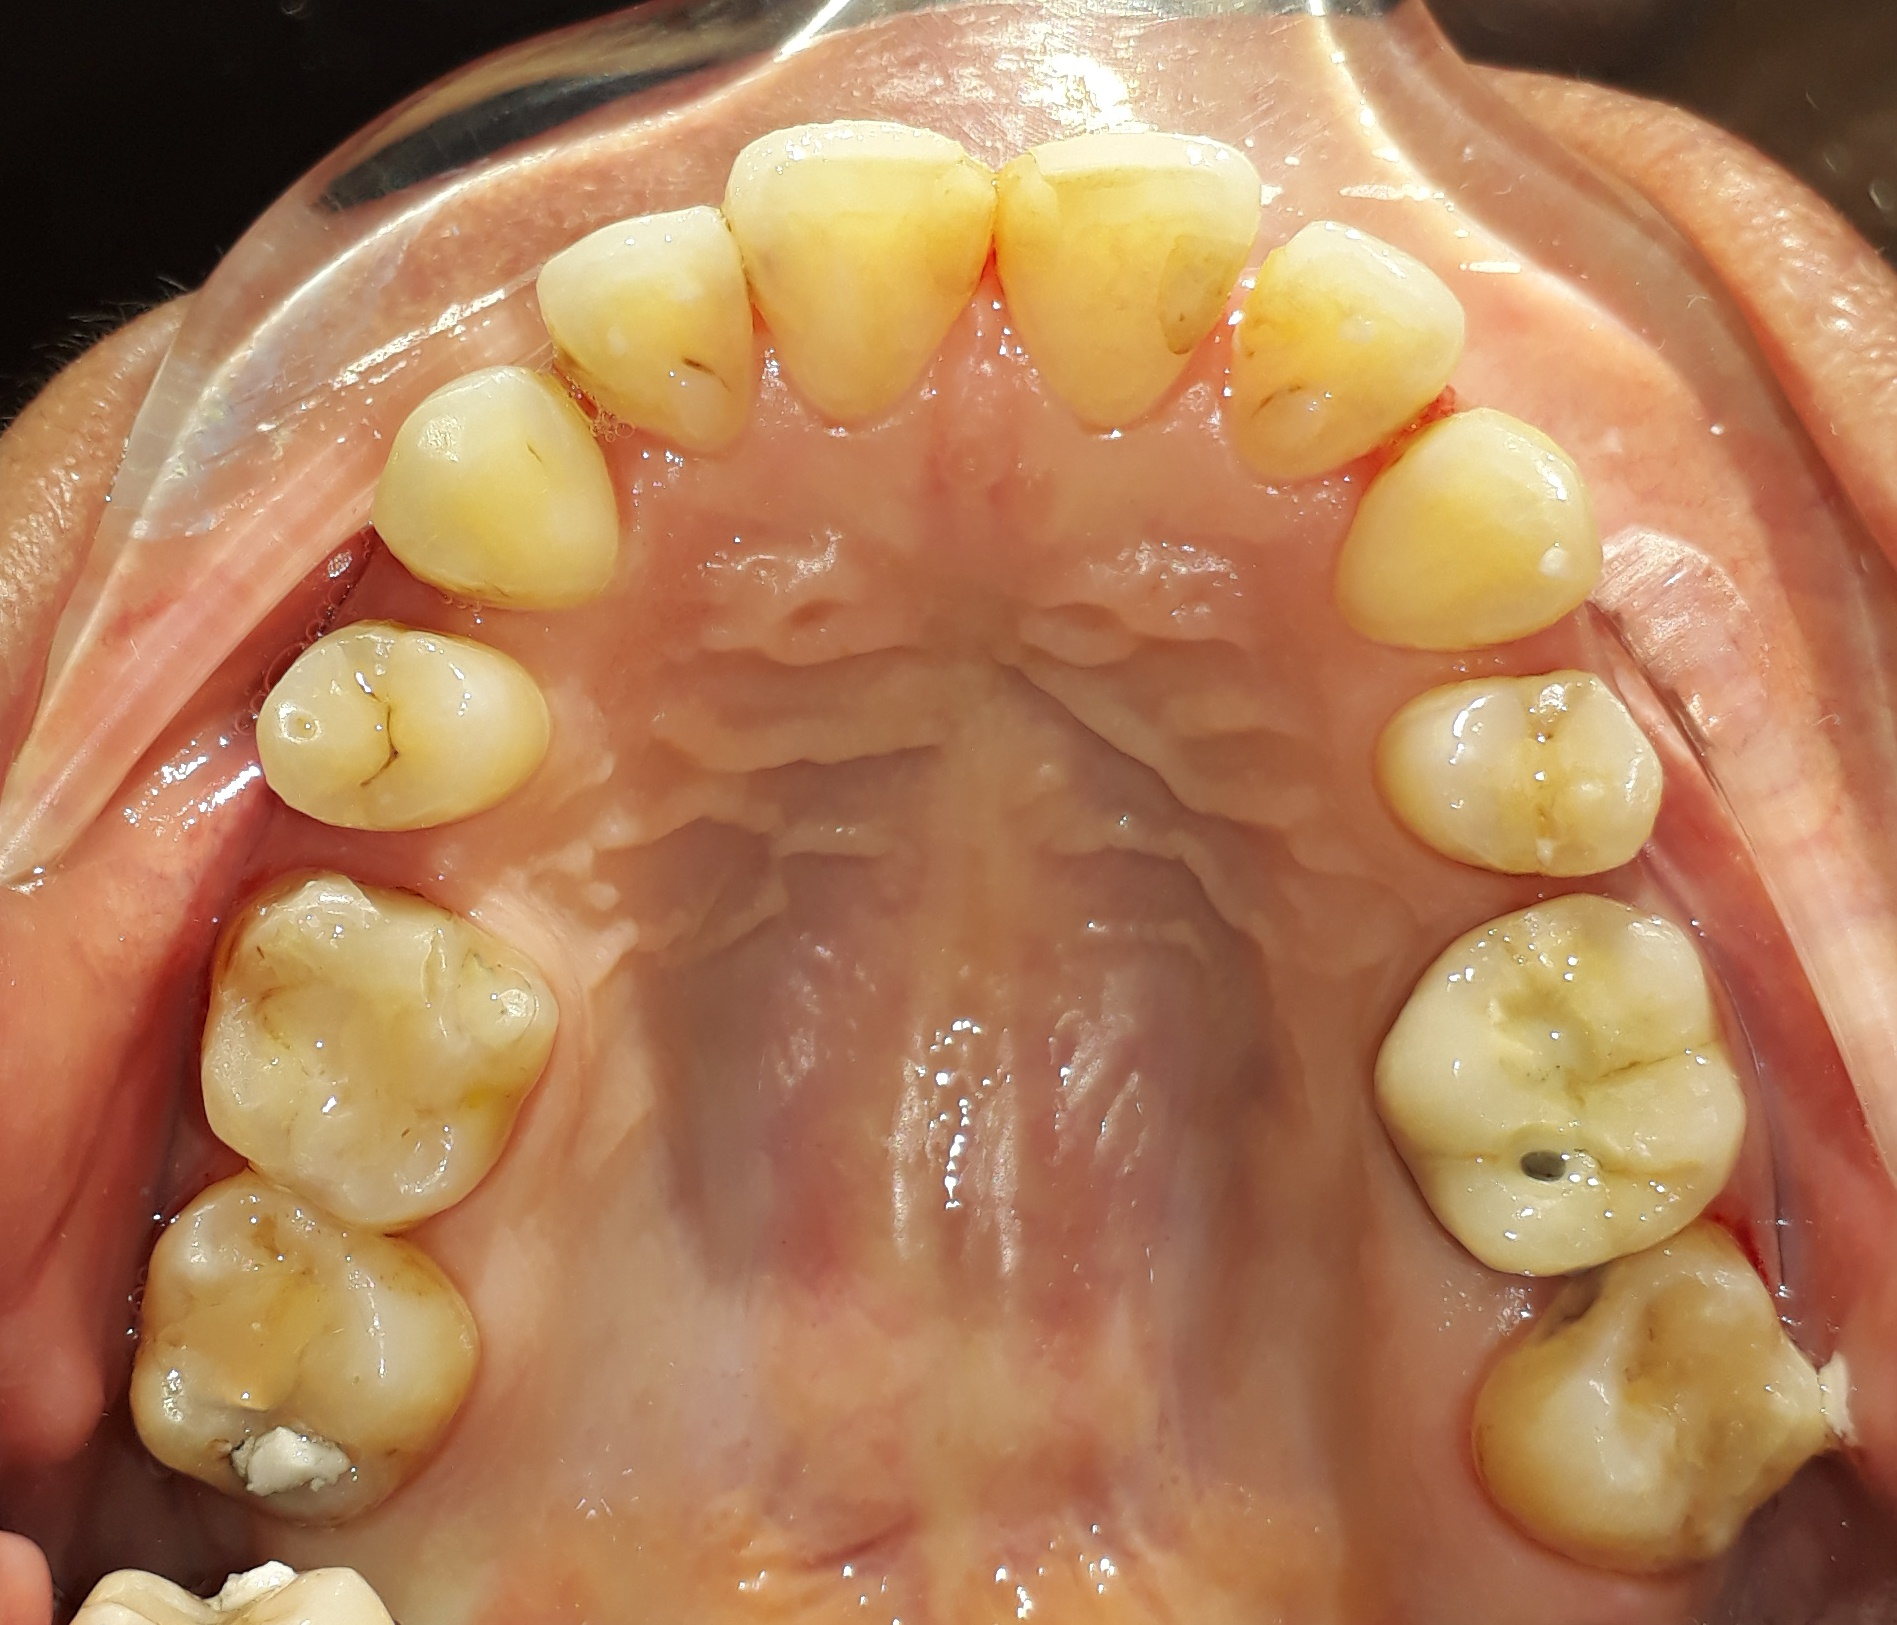1st Molar: (1463, 1232, 1849, 1578), (129, 1185, 487, 1523)
1st Premolar: (251, 613, 558, 840), (1381, 671, 1662, 883)
2nd Premolar: (1372, 887, 1749, 1275), (198, 866, 559, 1232)
Canine: (372, 355, 632, 609), (1336, 414, 1599, 656)
Central Incisor: (732, 113, 1002, 443), (1002, 131, 1252, 438)
Lateral Incisor: (1238, 206, 1472, 477), (537, 200, 754, 450)
